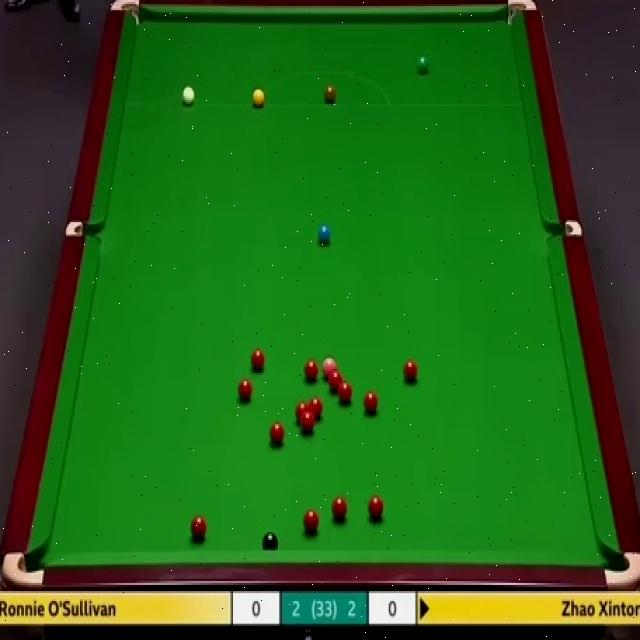black-ball: (264, 531, 282, 550)
blue-ball: (317, 225, 332, 243)
brown-ball: (324, 85, 337, 108)
green-ball: (418, 56, 428, 70)
pink-ball: (322, 356, 337, 376)
red-ball: (189, 514, 207, 540), (402, 358, 420, 382), (308, 397, 325, 422), (303, 509, 320, 534), (332, 493, 347, 521), (268, 421, 284, 445), (236, 380, 254, 401), (369, 496, 384, 519), (251, 348, 264, 372), (301, 412, 315, 434), (303, 360, 317, 380), (295, 402, 309, 422), (328, 370, 342, 390), (338, 384, 351, 405), (363, 393, 378, 411)
white-ball: (181, 86, 196, 104)
yellow-ball: (252, 88, 265, 108)
